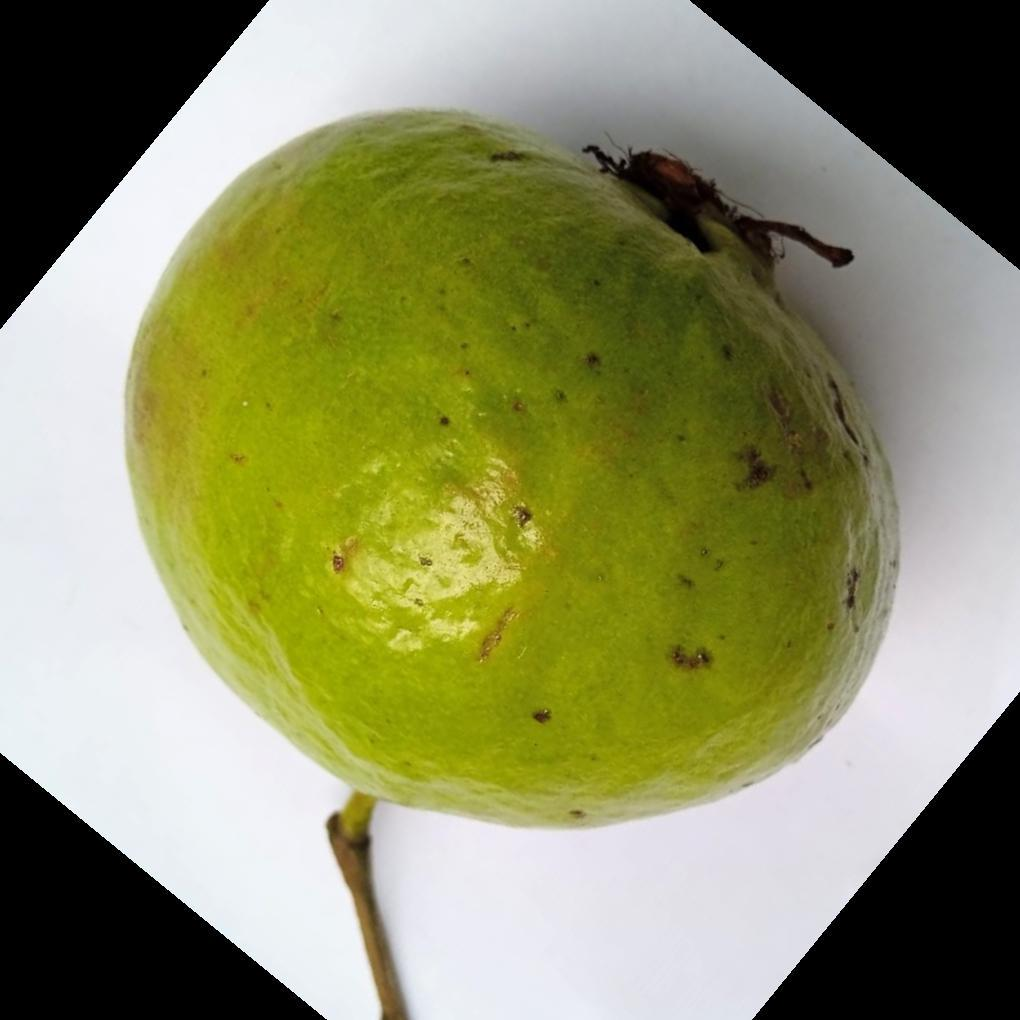FreshGuava: (121, 109, 901, 835)
